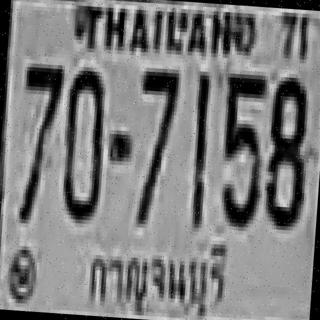N00: (59, 64, 107, 218)
N01: (187, 71, 209, 228)
N05: (216, 69, 266, 224)
N07: (14, 59, 62, 221), (131, 63, 177, 222), (134, 63, 177, 191), (18, 59, 62, 172)
N08: (262, 72, 310, 227)
P17: (86, 236, 231, 320)
